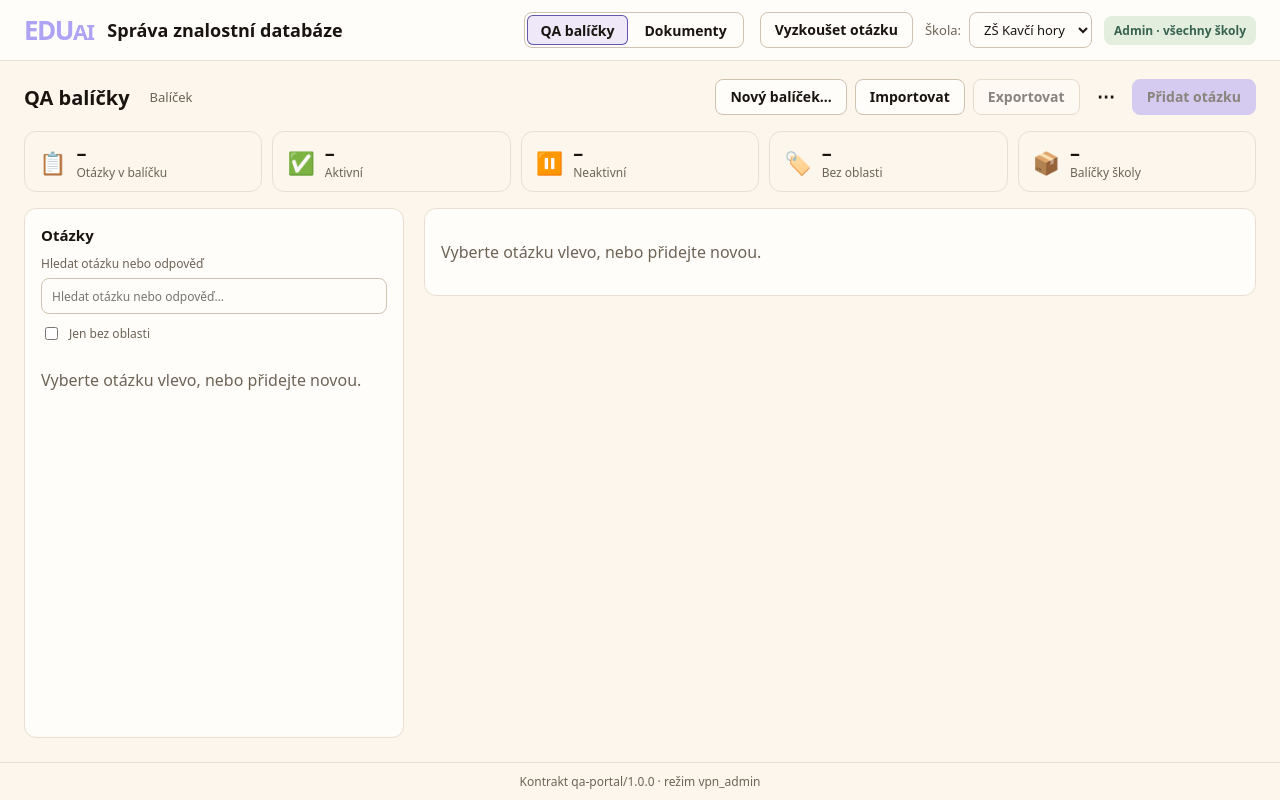
Test: try a question in the app › answers with sources from documents and with no text in retrieval-only mode (mock)
Click the button "Vyzkoušet otázku". click: click(836, 30)
box: x1=760 y1=12 x2=913 y2=48
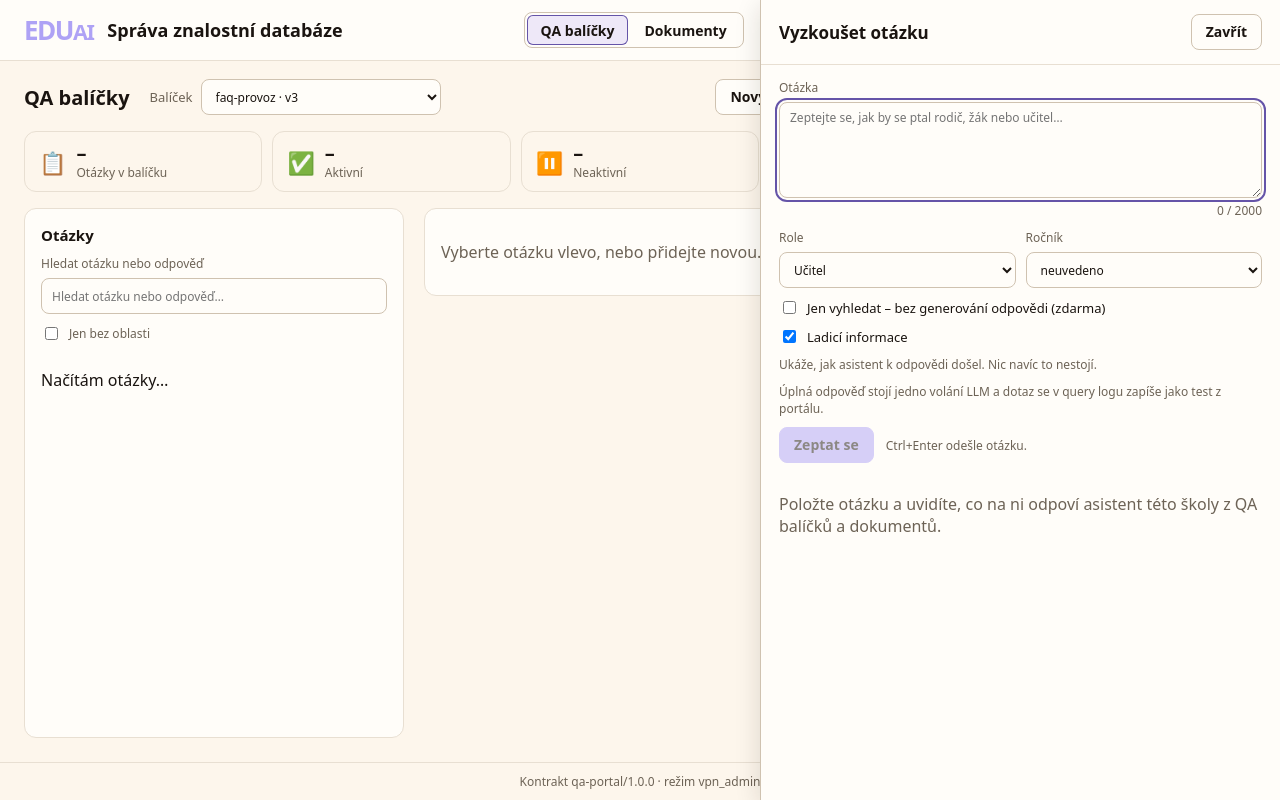
Type "Co říká školní řád?" into the text box labelled "Otázka". click: (1020, 150)
box: x1=779 y1=102 x2=1262 y2=198
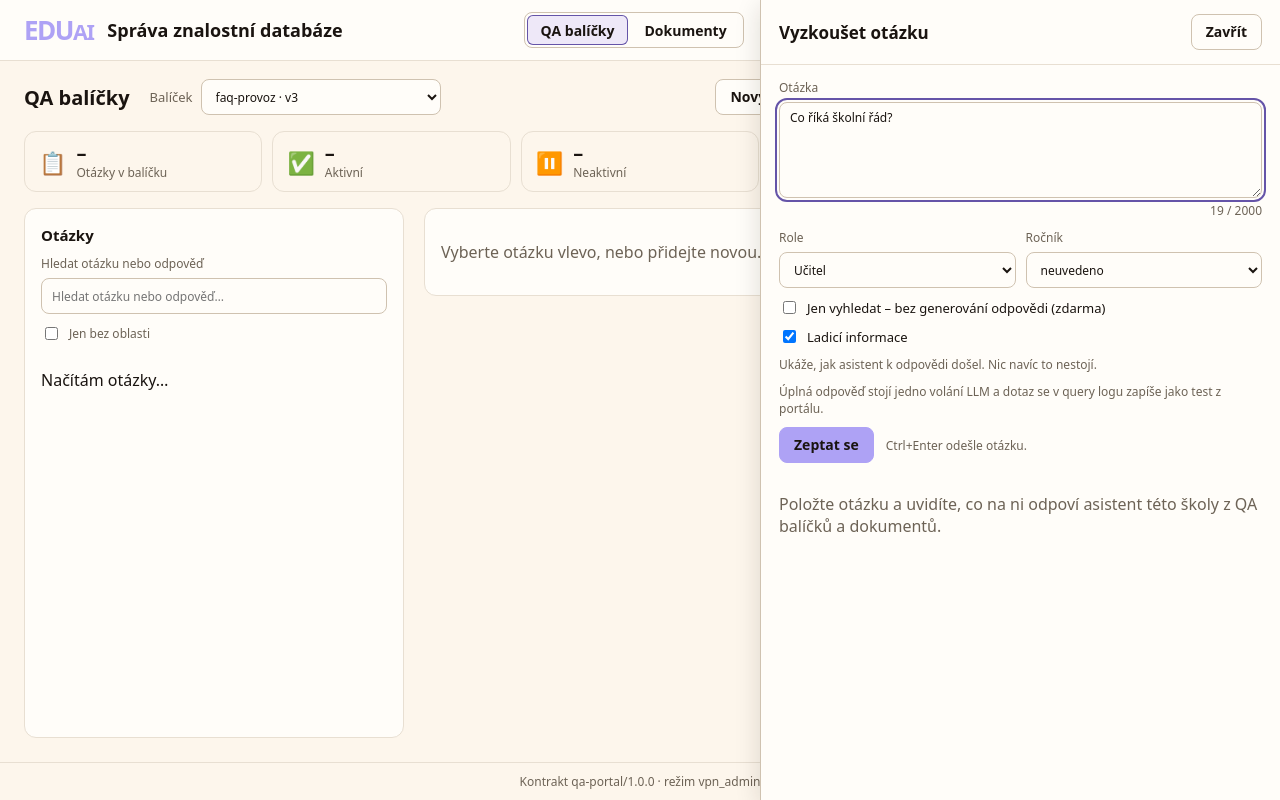
Click the checkbox labelled "Jen vyhledat – bez generování odpovědi (zdarma)". click: click(790, 308)
box: x1=783 y1=301 x2=796 y2=314
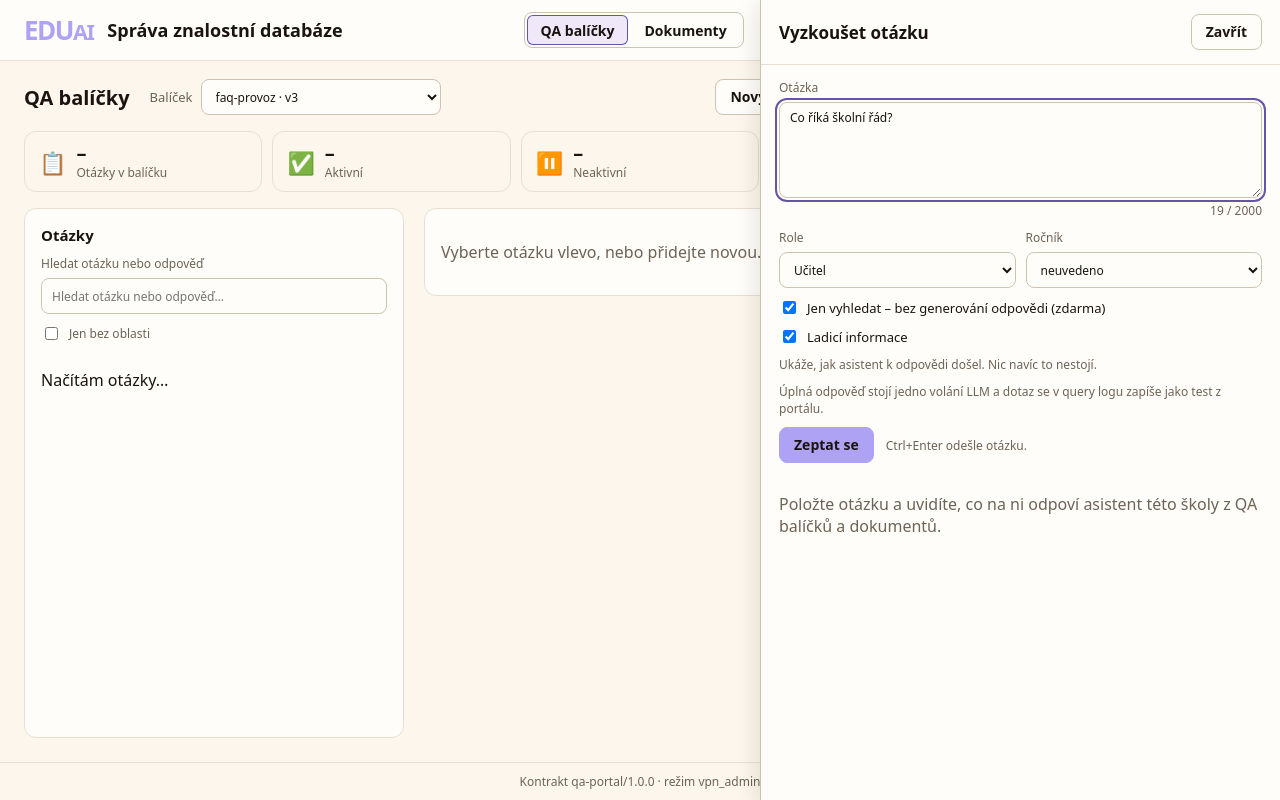
Click the button "Zeptat se". click: click(826, 445)
box: x1=779 y1=427 x2=874 y2=463
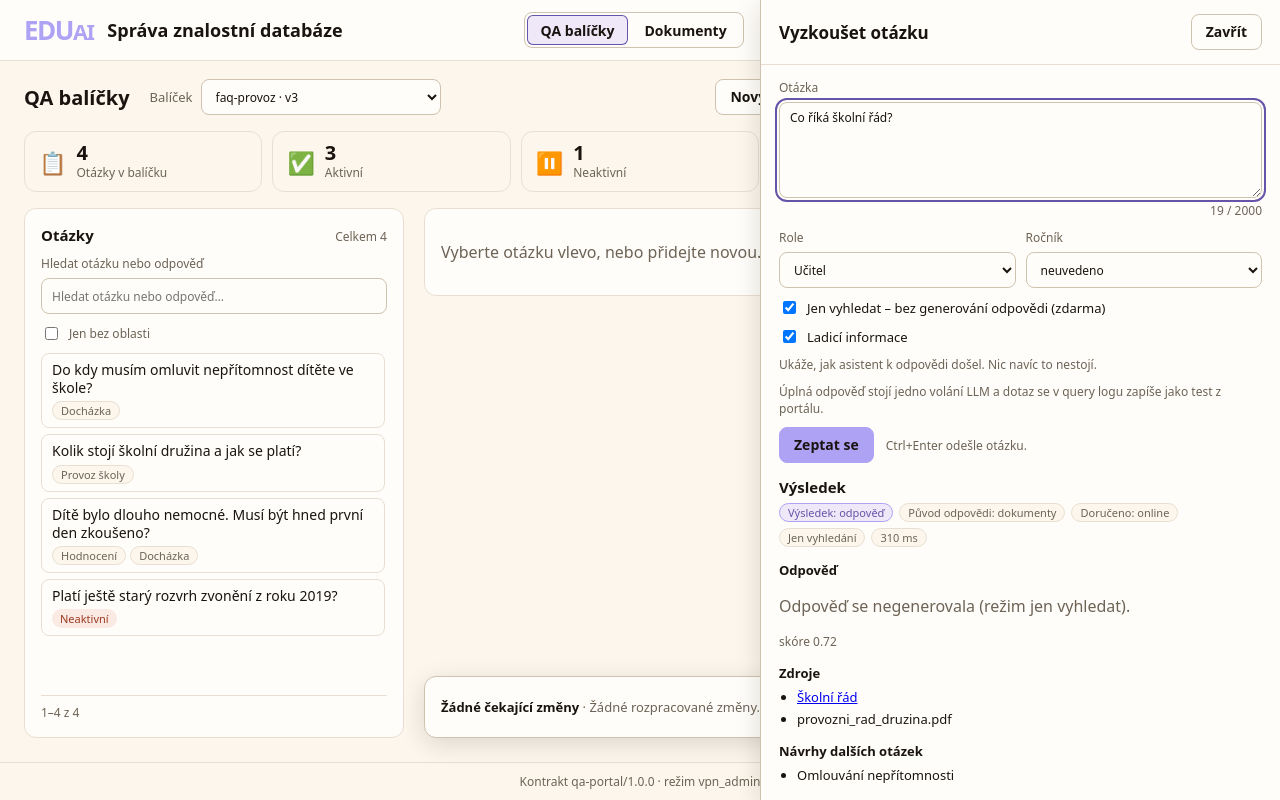
Check: the text "Odpověď se negenerovala (režim jen vyhledat)." is shown, box x1=779 y1=595 x2=1130 y2=617
Check: the link "Školní řád" is shown, box x1=797 y1=688 x2=858 y2=706
